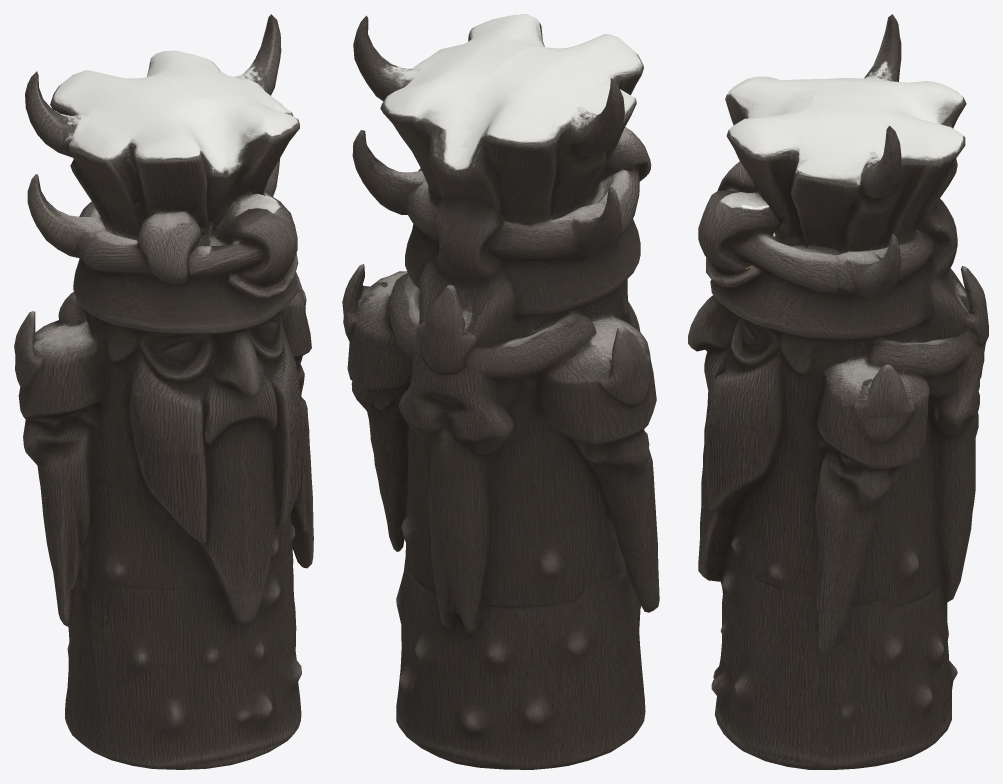
The model's file is totem-idol.opt.glb.
3 views of the same model, side by side, from view 1: azimuth 30°, elevation 25°; view 2: azimuth 150°, elevation 25°; view 3: azimuth 270°, elevation 25° (orthographic). The views are drawn at different scales.
Bounding box in the file's own units: 0.8493 × 1.91 × 0.7944.
1 material, 1 textured.
